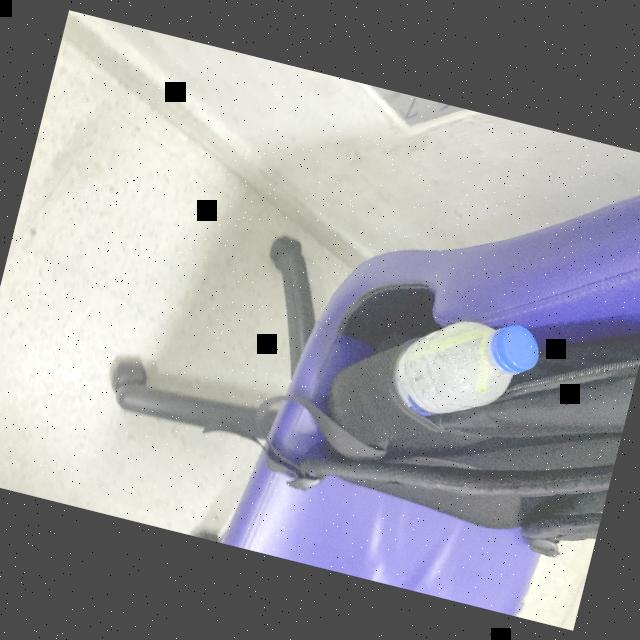plastic_bottle: (372, 293, 549, 442)
plastic_bottle_cap: (486, 321, 545, 377)
straw: (398, 307, 502, 392)
